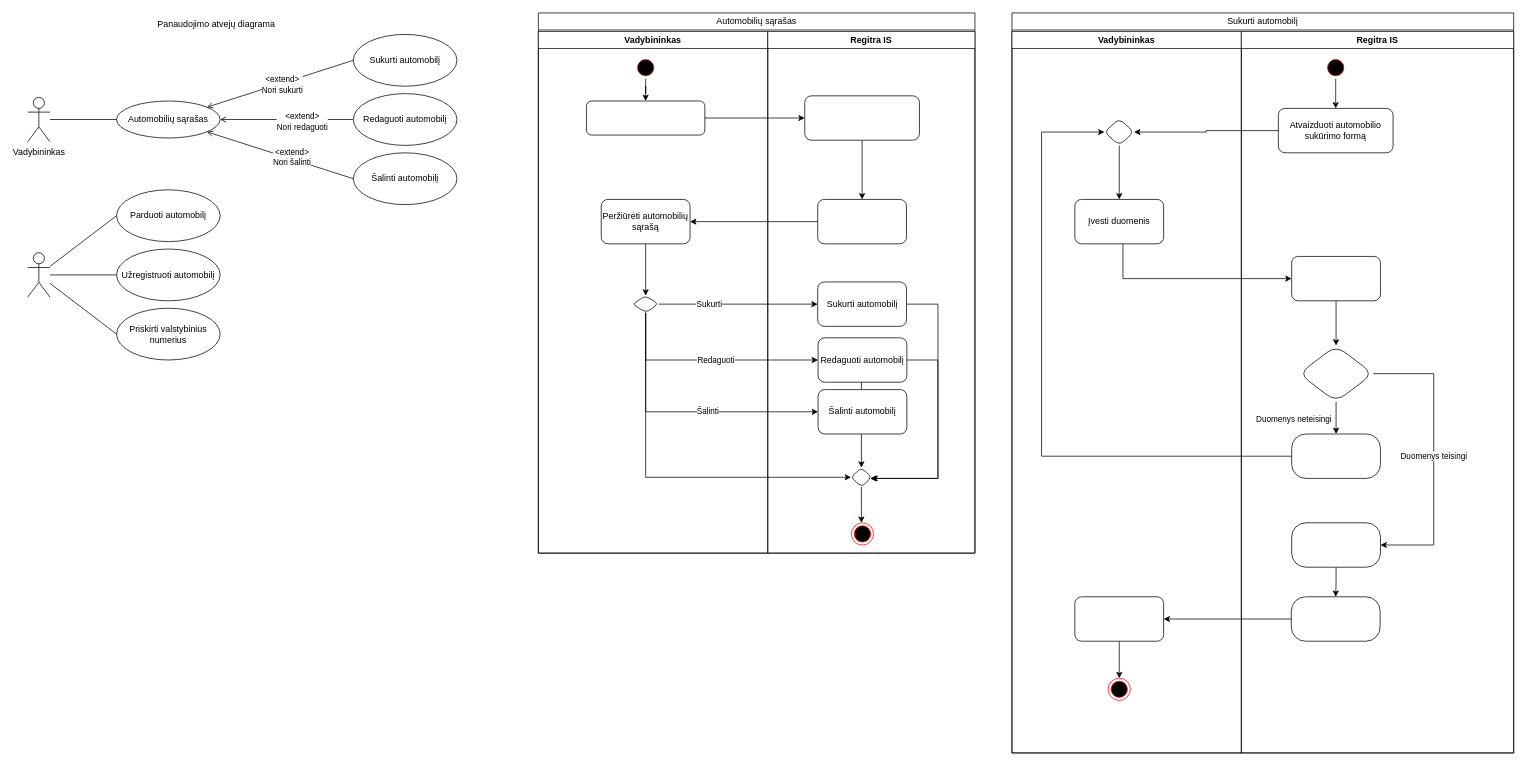
This 1527x766 diagram has some shape labels left out. The centre of each missing label's shape, as x and y in pixels:
Ar duomenys teisingi: pixel 1335 373
Gauti duomenis iš DB: pixel 861 117
Išsaugoti automobilį: pixel 1335 544
Pasirinkti meniu "Automobilių sąrašas": pixel 645 117
Patikrinti duomenis: pixel 1335 278
Peržiūrėti automobilio duomenis: pixel 1119 618
Suformuoti duomenis lentele: pixel 861 221
Suformuoti klaidos pranešimą: pixel 1335 455
Suformuoti sėkmės pranešimą: pixel 1335 618
Vairuotojas: pixel 38 274
